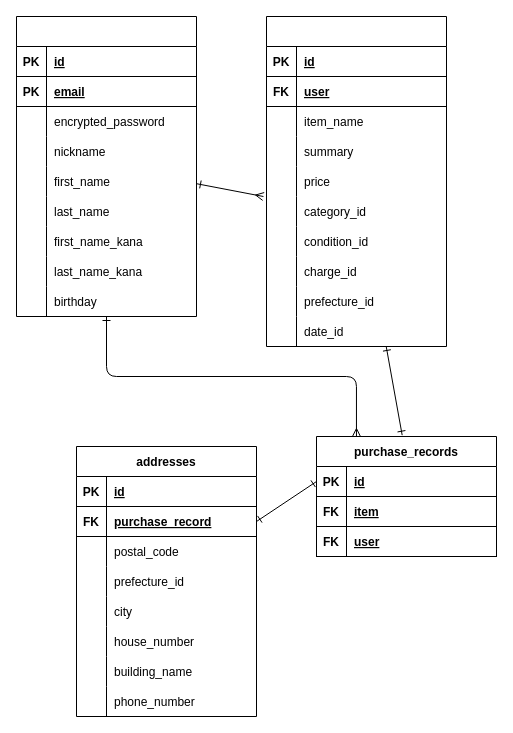
Image size: 513x733. Some labels were removed from this diagram. The box of each missing label's shape, as (x1, y1, x2, y2) in pixels:
items: (266, 16, 446, 346)
users: (16, 16, 196, 316)
